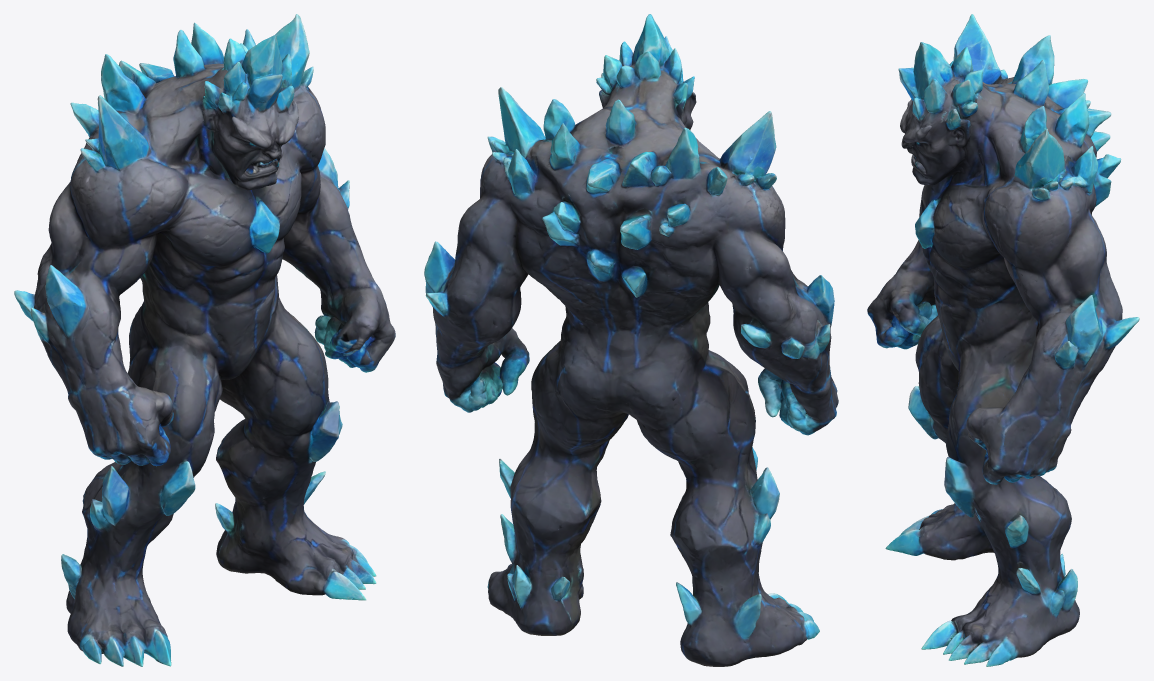
The model's file is elite.glb.
3 renders of one model, left to right at view 1: azimuth 30°, elevation 25°; view 2: azimuth 150°, elevation 25°; view 3: azimuth 270°, elevation 25°, orthographic. The views are drawn at different scales.
Visible parts, largest first — view 1: Mesh_0; view 2: Mesh_0; view 3: Mesh_0.
Boxes of the visible parts, bbox=[...] form: Mesh_0: bbox=[14, 14, 395, 666]; Mesh_0: bbox=[424, 14, 838, 666]; Mesh_0: bbox=[867, 14, 1139, 666].
Bounding box in the file's own units: 1.27 × 1.9 × 0.8314.
1 material, 1 textured.
